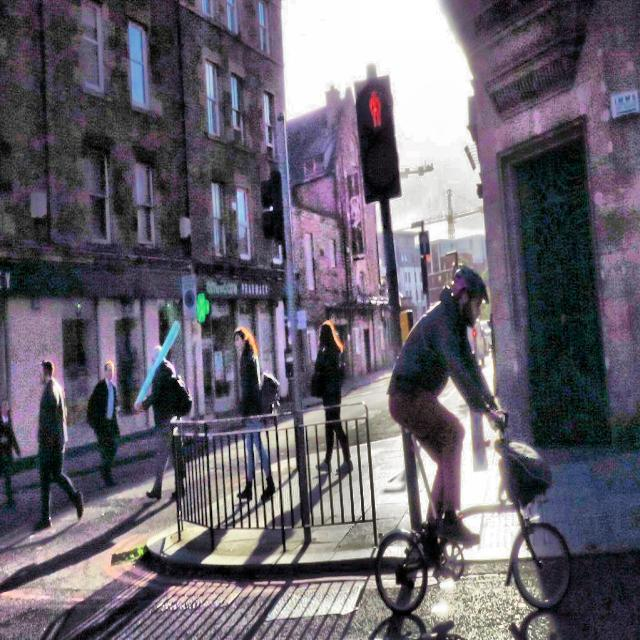red_light: (368, 89, 382, 129)
